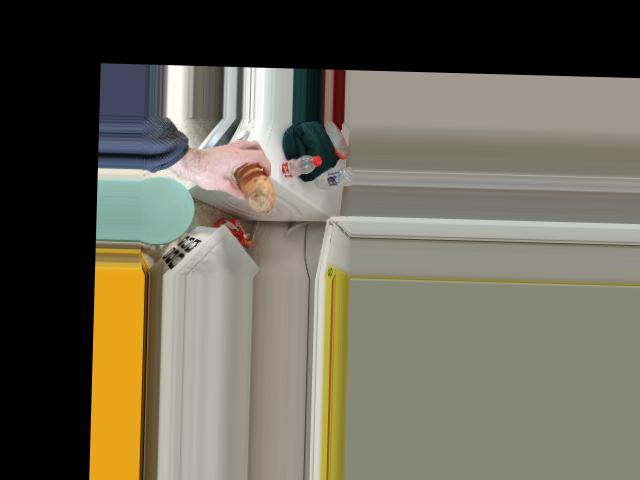sweet_potato: (233, 160, 277, 204)
